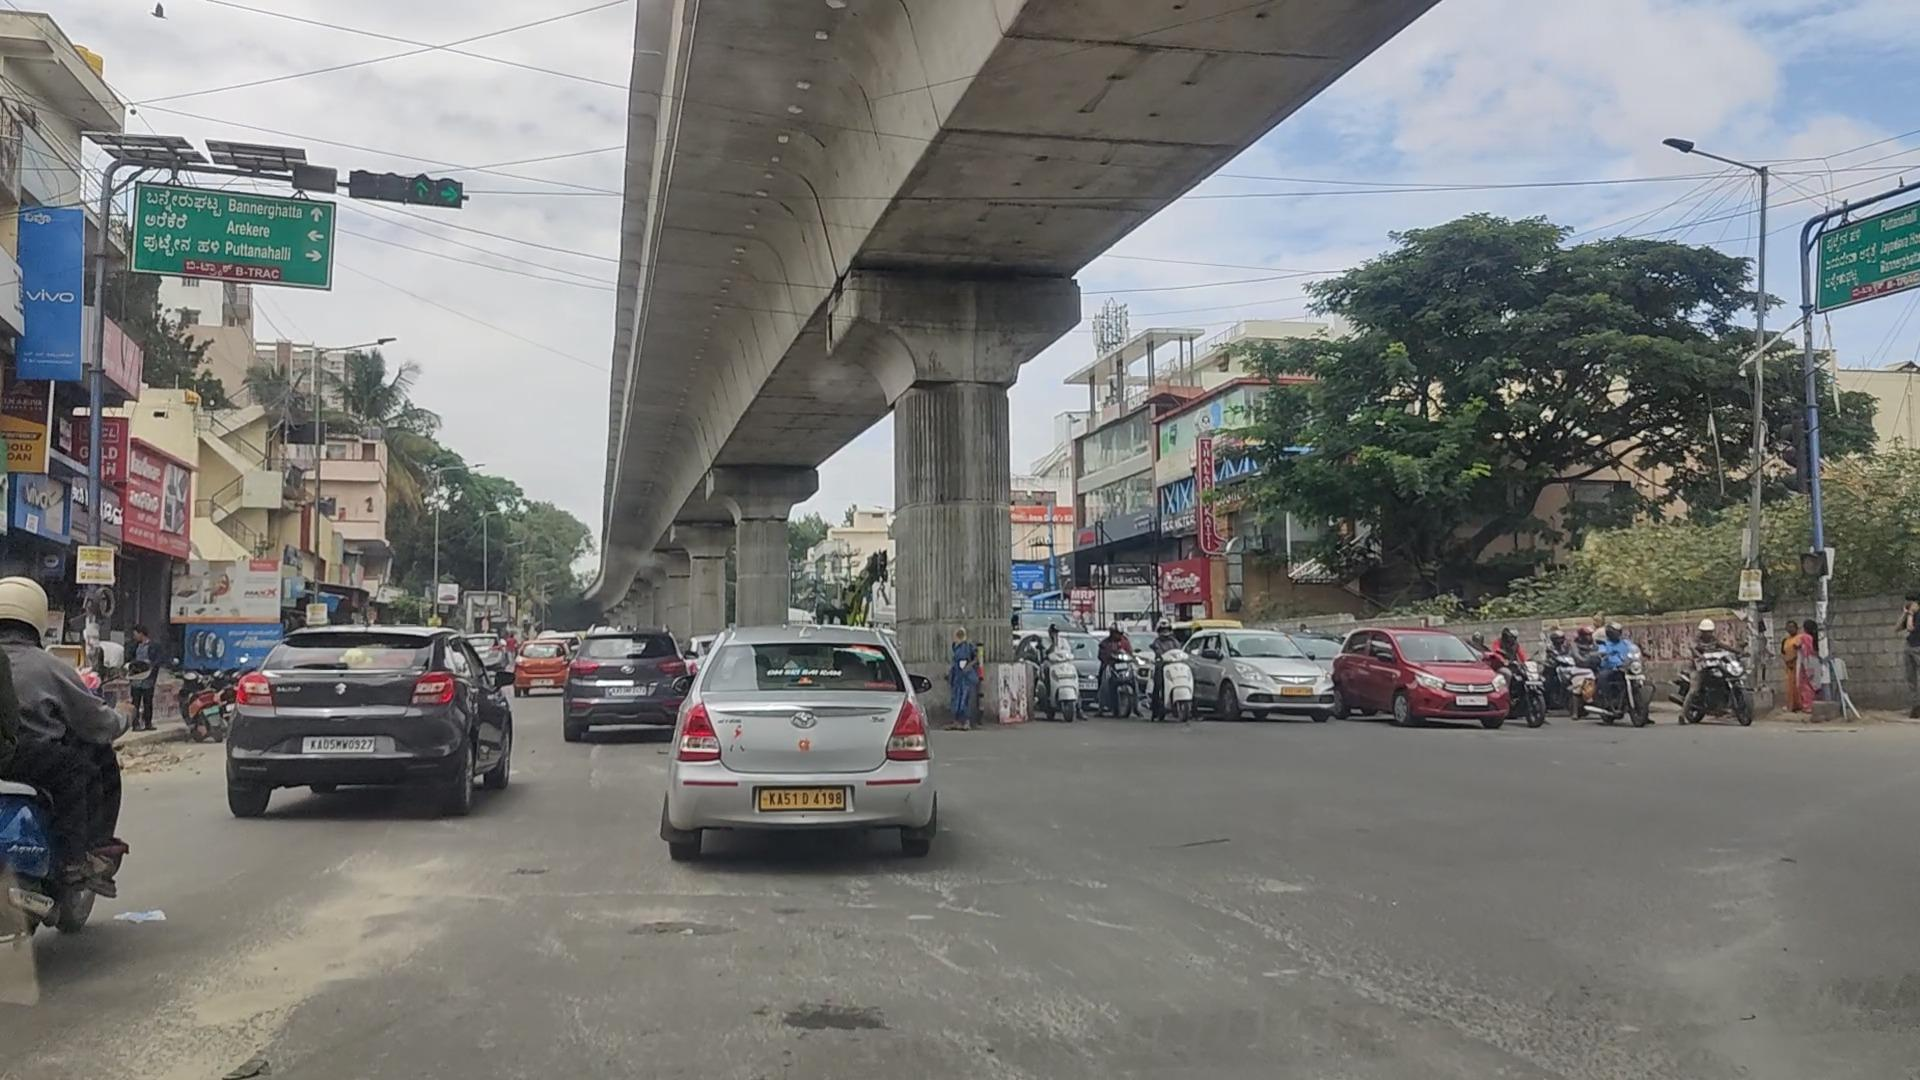LMV: (659, 603, 940, 874), (227, 605, 517, 825), (0, 538, 127, 988)
RoadDamages: (1370, 951, 1519, 1056), (1195, 861, 1331, 951), (889, 856, 894, 861)
